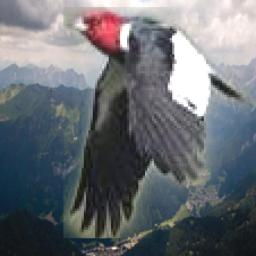Woodpecker: (65, 8, 251, 239)
